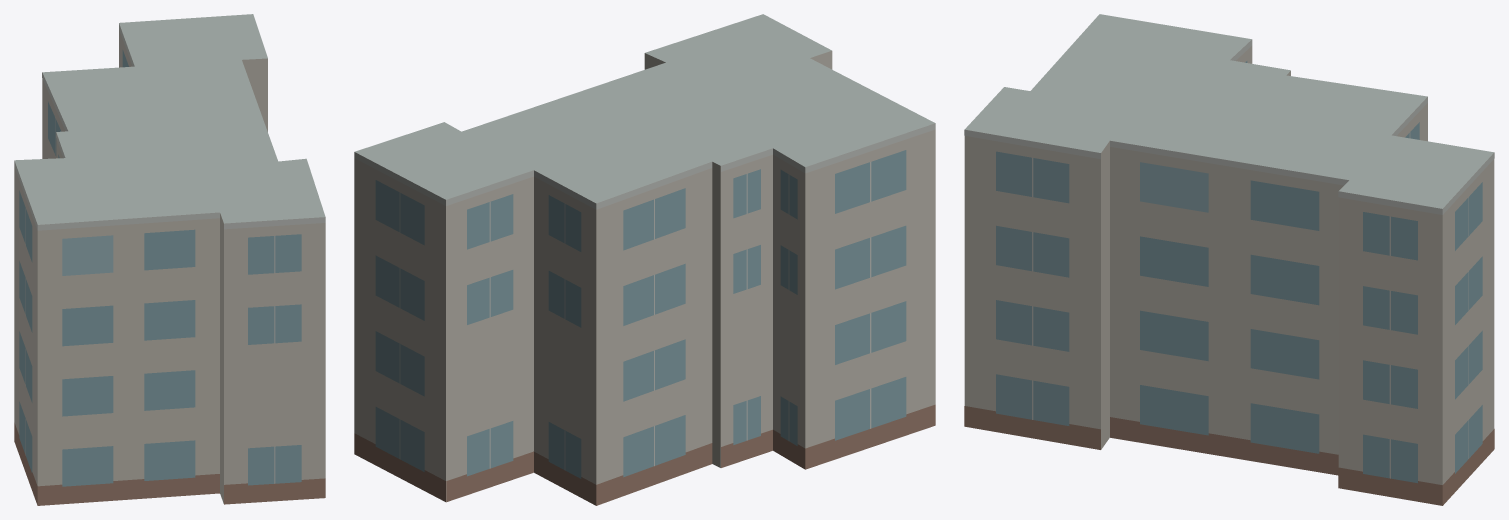
Rendered from survey-upis-32747494.glb.
The picture shows the model from 3 angles, left to right: view 1: azimuth 30°, elevation 25°; view 2: azimuth 150°, elevation 25°; view 3: azimuth 270°, elevation 25°; orthographic projection. The views are drawn at different scales.
Visible parts, largest first — view 1: survey-upis-32747494.tmp; view 2: survey-upis-32747494.tmp; view 3: survey-upis-32747494.tmp.
Boxes of the visible parts, left/top/right/bottom form: survey-upis-32747494.tmp: left=14, top=14, right=325, bottom=505; survey-upis-32747494.tmp: left=354, top=14, right=935, bottom=505; survey-upis-32747494.tmp: left=964, top=14, right=1494, bottom=505.
Size of the model in its own units: 16.62 by 11.8 by 19.09.
